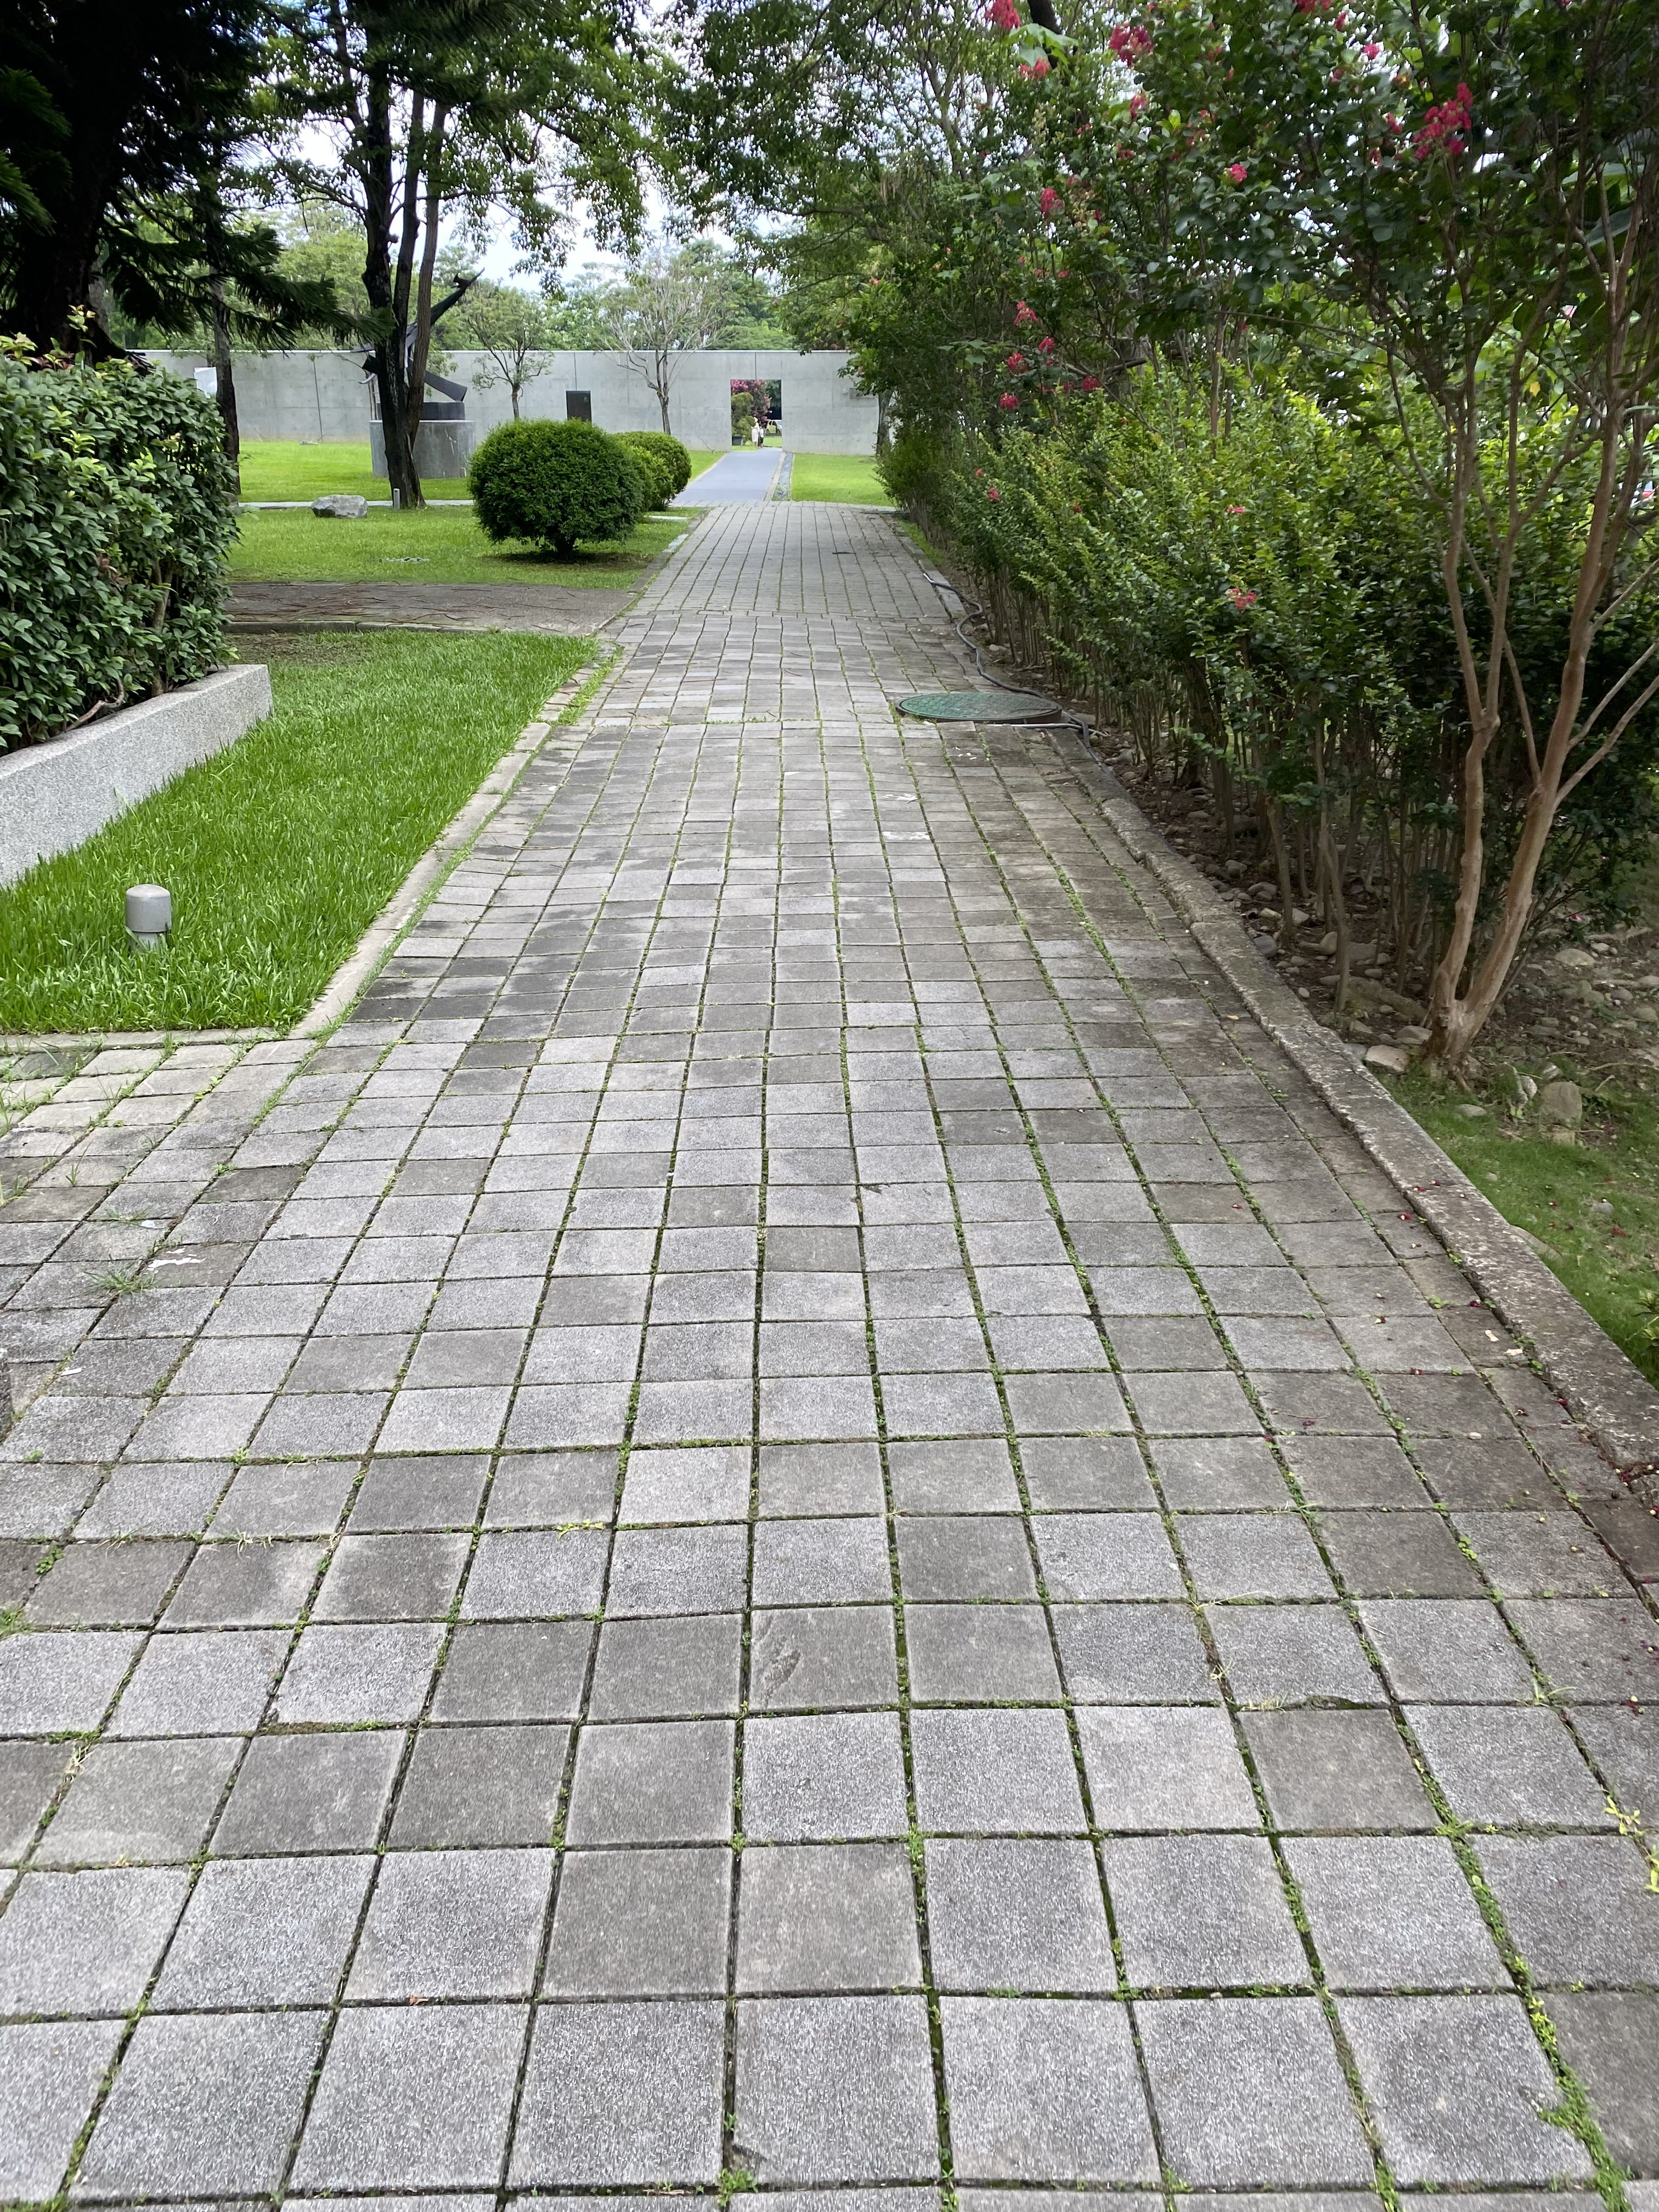0: (10, 611, 728, 2212)
sidewalk: (648, 488, 1659, 2212)
